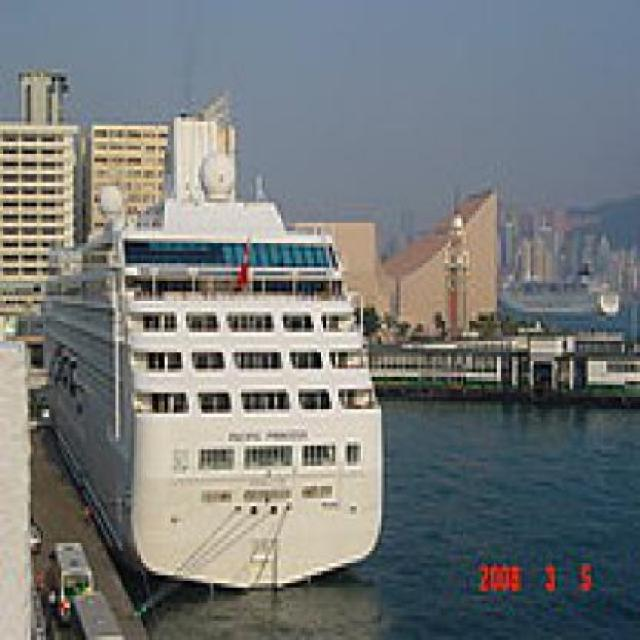cruise: (25, 139, 397, 597)
